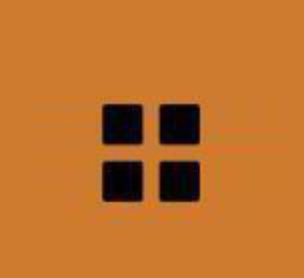ImgButton: (1, 1, 303, 277)
